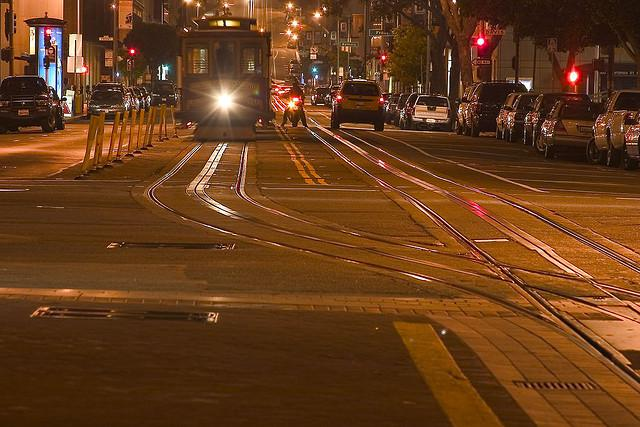Train: (190, 14, 278, 145)
